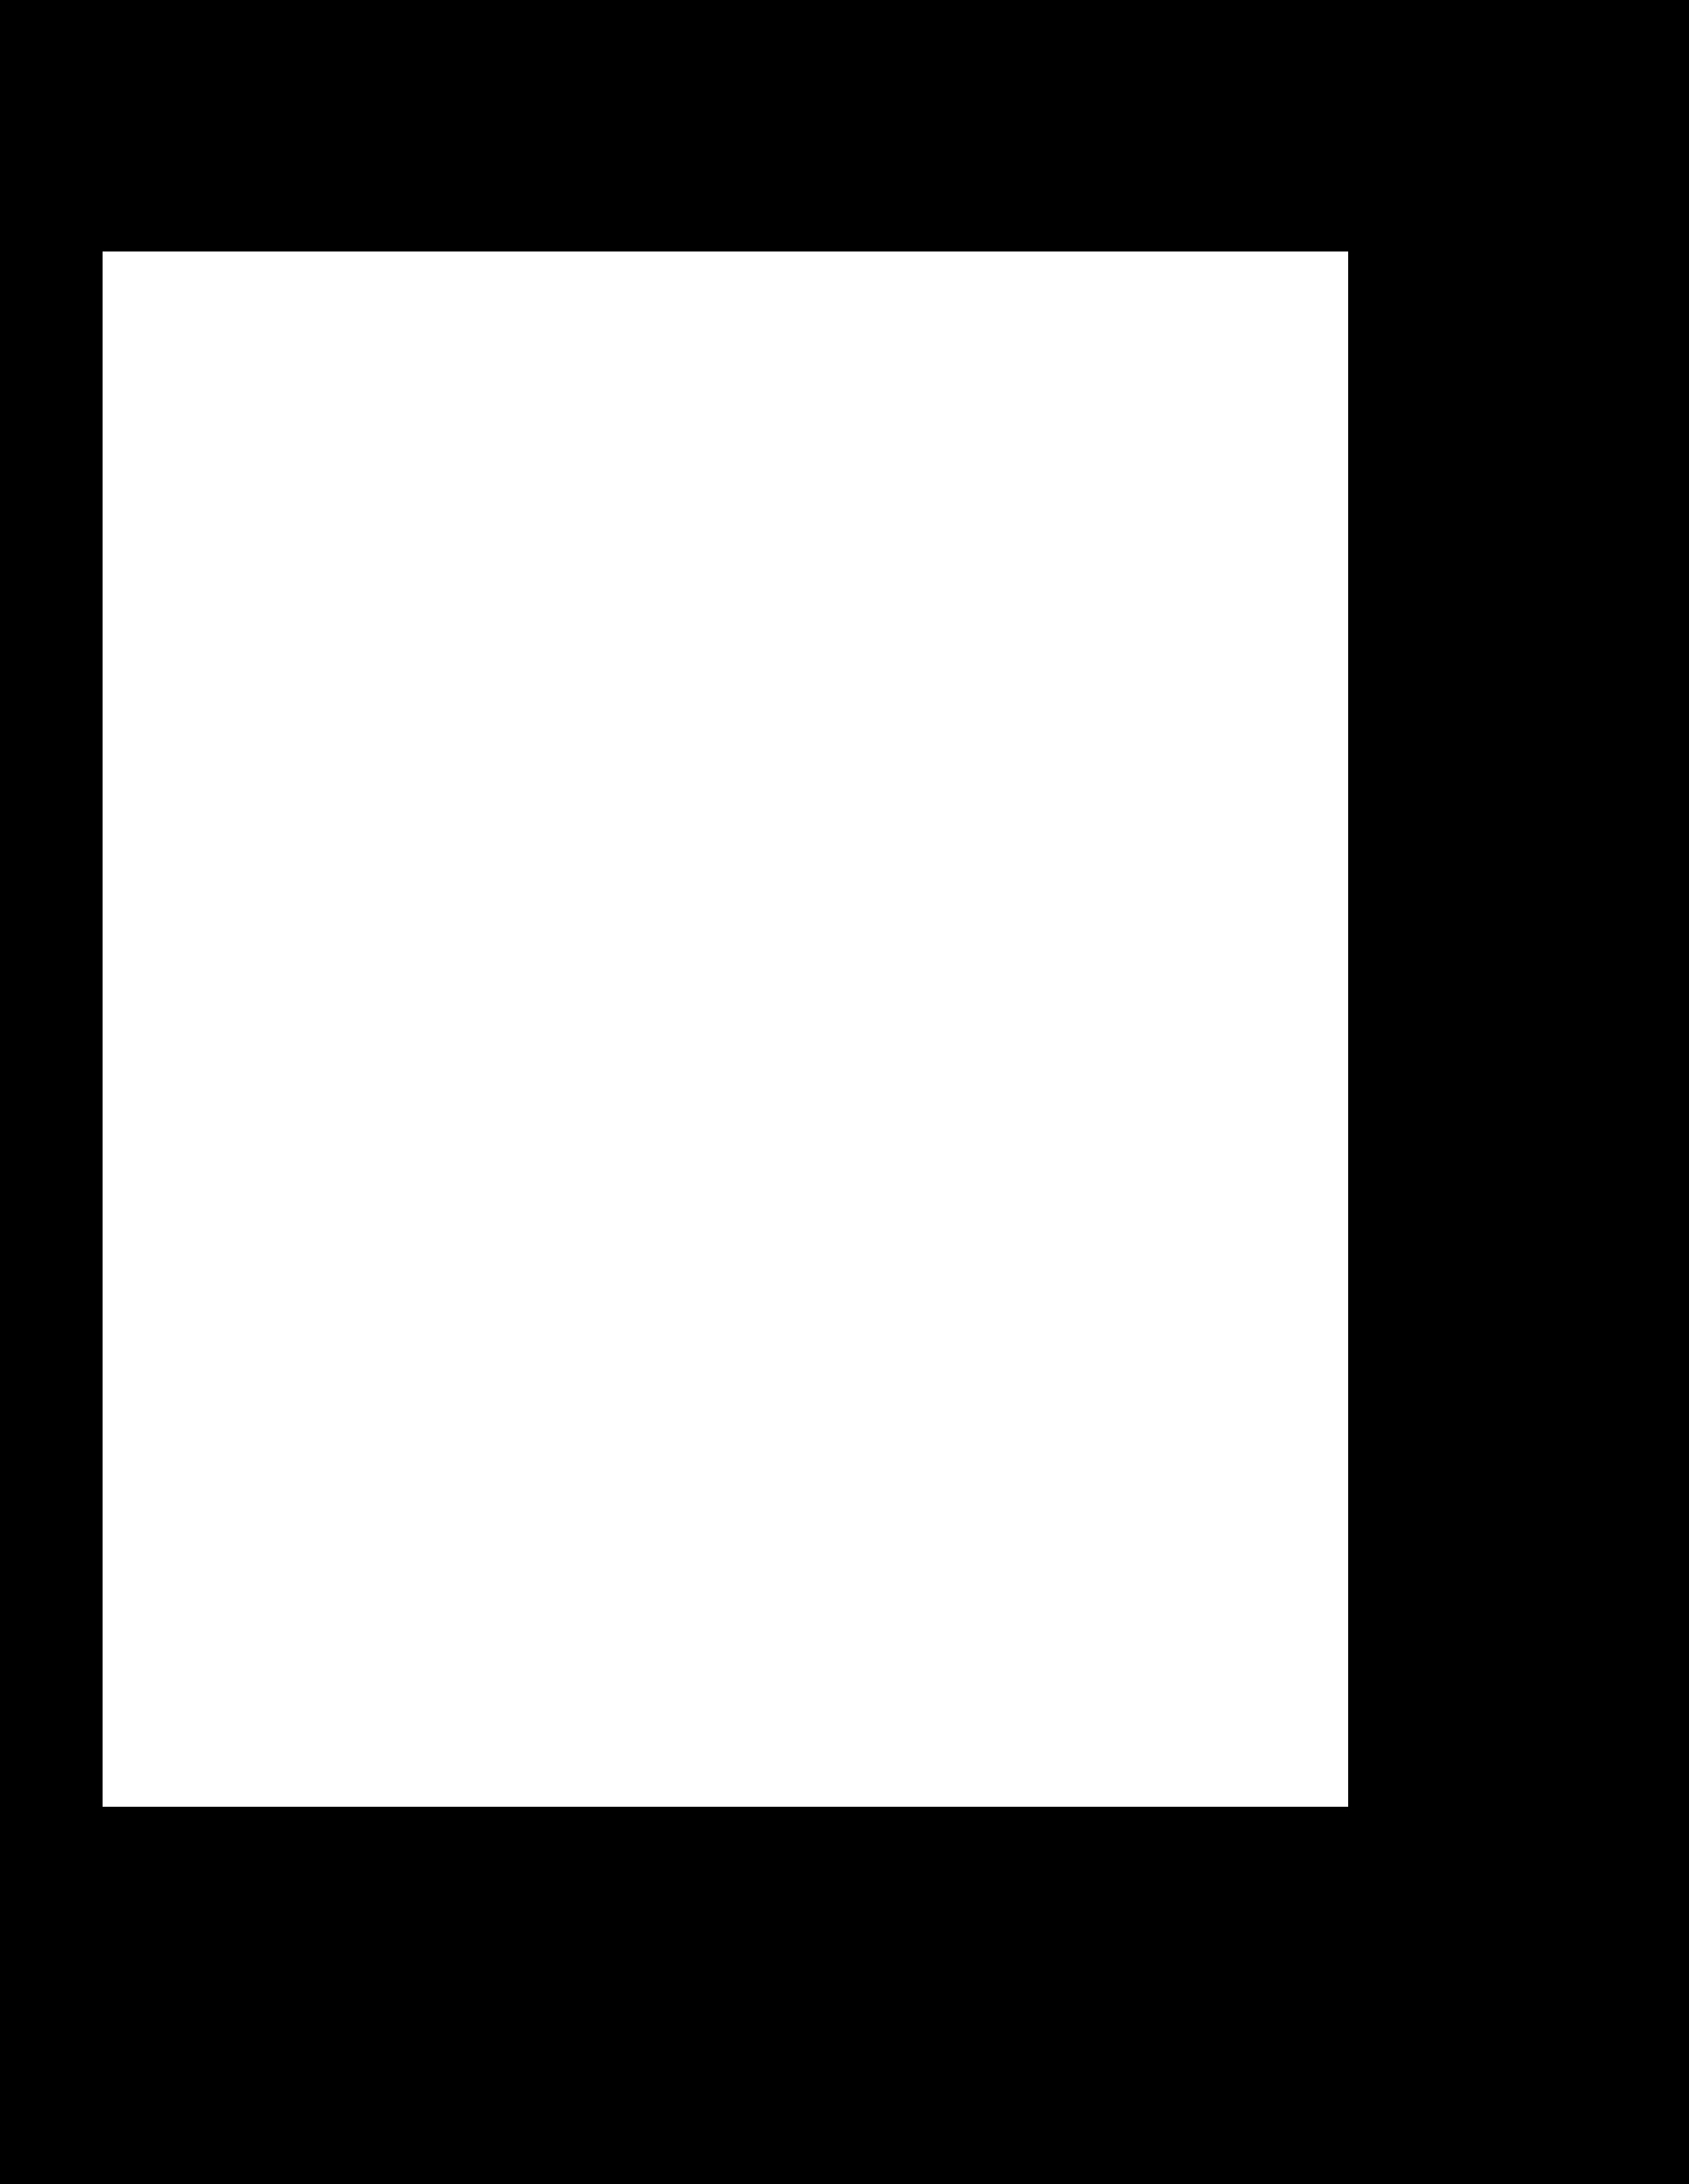table: (103, 252, 1347, 1806)
